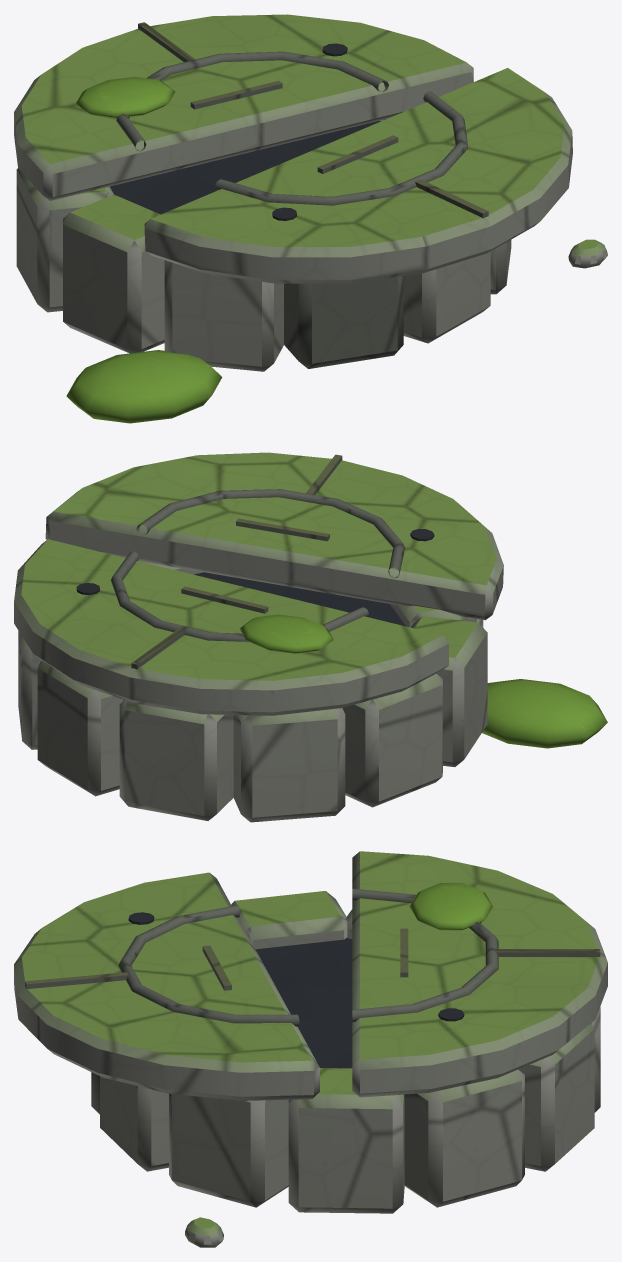
Rendered from stone_well_cover.glb.
3 renders of one model, top to bottom at view 1: azimuth 30°, elevation 25°; view 2: azimuth 150°, elevation 25°; view 3: azimuth 270°, elevation 25°, orthographic. The views are drawn at different scales.
Visible parts, largest first — view 1: stone_well_cover; view 2: stone_well_cover; view 3: stone_well_cover.
Part boxes in pixels (x1=…): stone_well_cover: x1=14, y1=14, x2=607, y2=423; stone_well_cover: x1=14, y1=452, x2=607, y2=822; stone_well_cover: x1=14, y1=851, x2=607, y2=1247.
Bounding box in the file's own units: 2.5 × 0.82 × 2.28.
4 materials, 4 textured.
